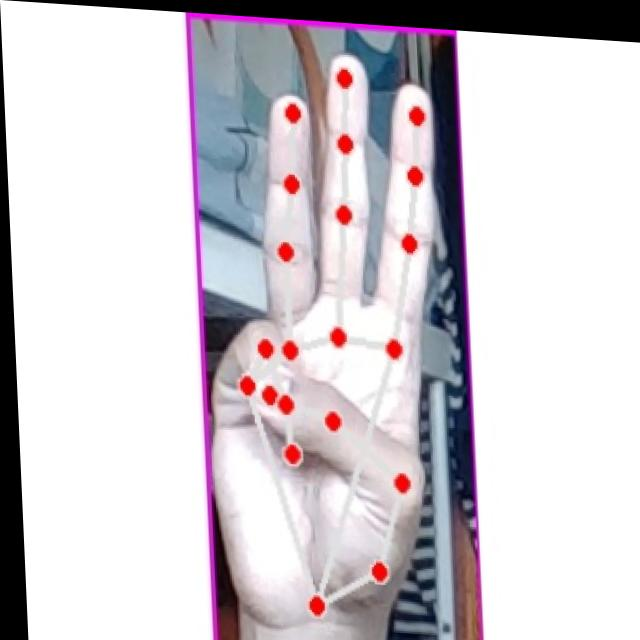W: (197, 33, 455, 636)
